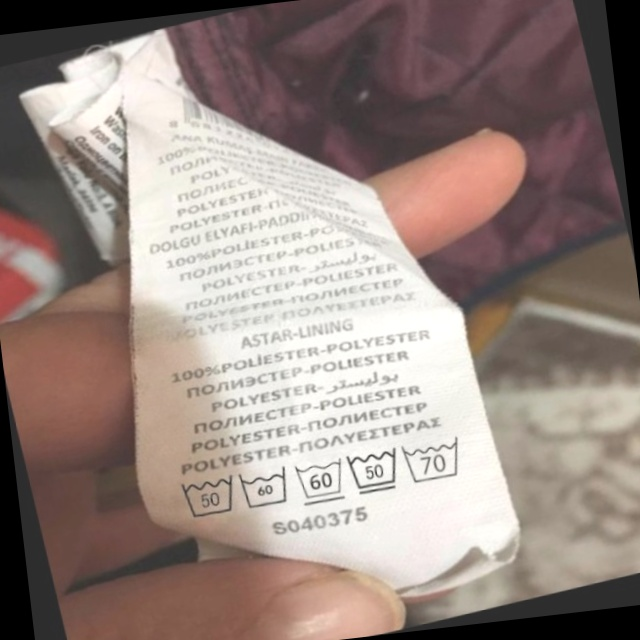50C: (172, 463, 246, 528), (342, 440, 409, 502)
60C: (290, 449, 355, 510), (234, 459, 299, 517)
70C: (399, 429, 474, 489)
